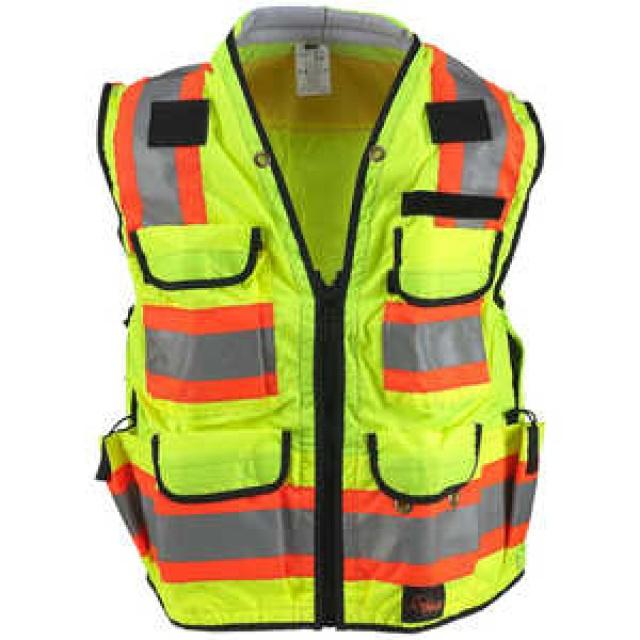vest: (92, 9, 549, 640)
